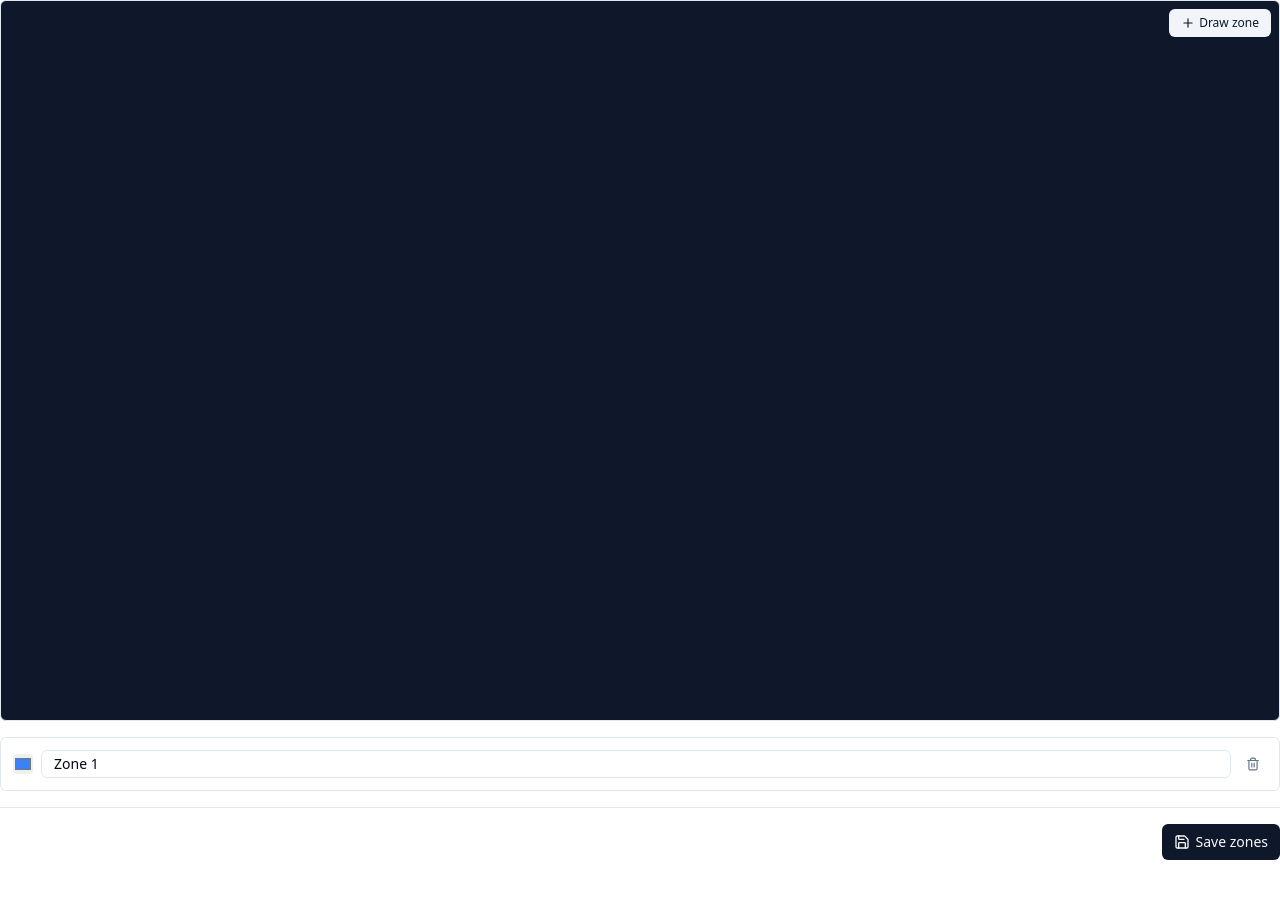
Test: ZoneEditor › expands zone settings on click
What coordinates should you click on to do the following:
click the element showing "Zone 1"
I would click on:
 (640, 764)
Its box is [0, 737, 1279, 791].
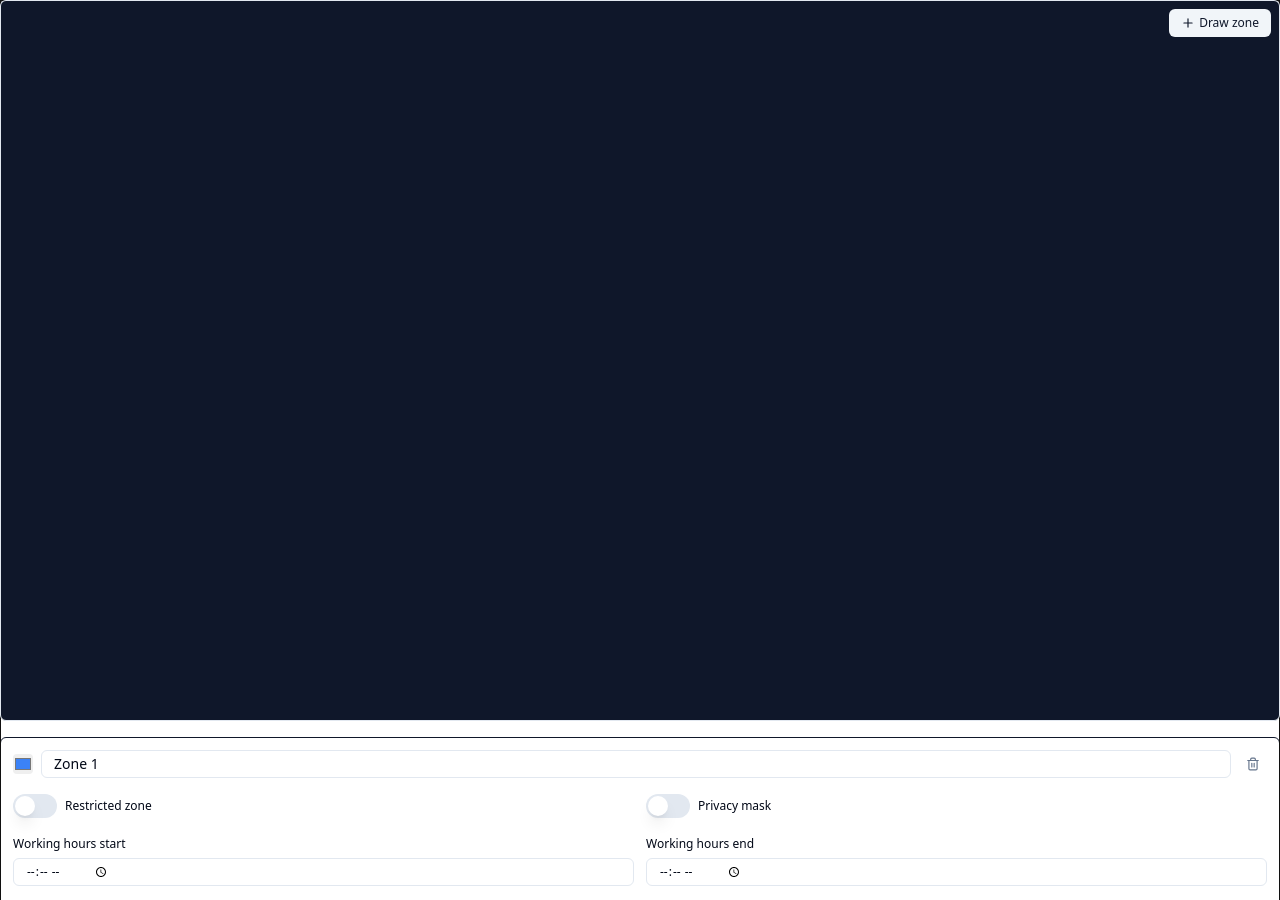
Result: the text "Restricted zone" is shown at [65, 798, 152, 814]
